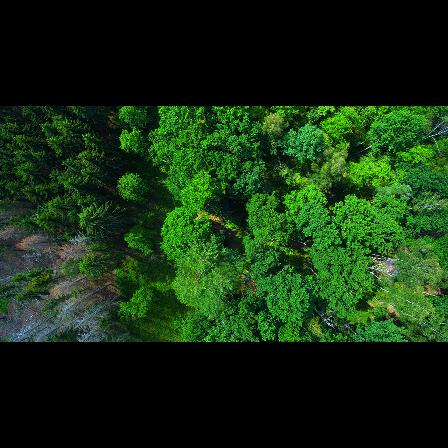Dead: (64, 283, 110, 314), (57, 304, 100, 334), (79, 298, 116, 327), (416, 115, 448, 148), (18, 313, 54, 335), (365, 262, 402, 280), (21, 247, 63, 262), (69, 231, 97, 245), (80, 324, 101, 342), (18, 329, 47, 342), (0, 227, 30, 238), (0, 270, 16, 284)
